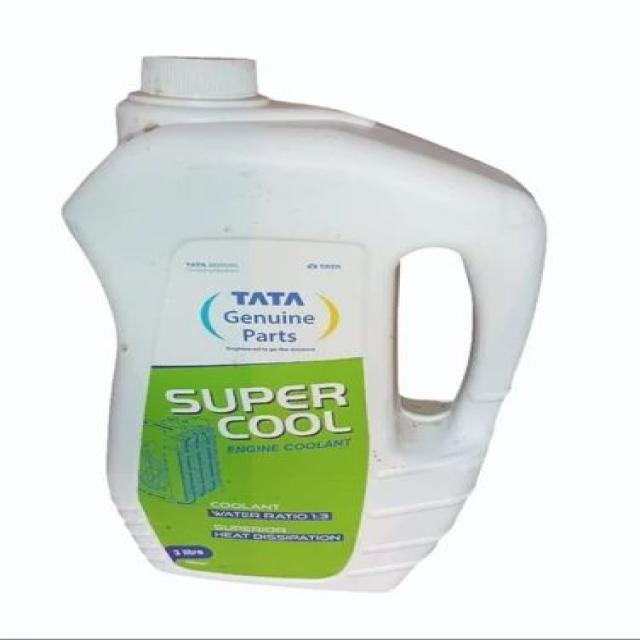coolant: (52, 48, 552, 600)
